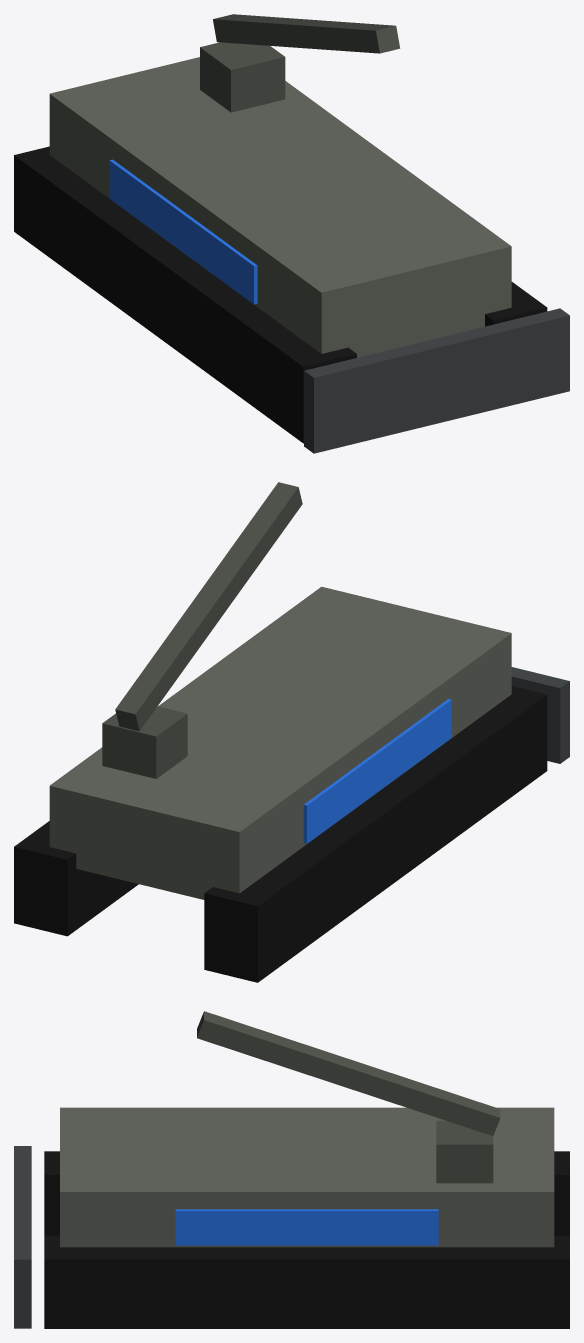
The model's file is eu_engineer.glb.
3 renders of one model, top to bottom at view 1: azimuth 30°, elevation 25°; view 2: azimuth 150°, elevation 25°; view 3: azimuth 270°, elevation 25°, orthographic. The views are drawn at different scales.
Visible parts, largest first — view 1: hull, track_l, dozer_blade, team_panel_l, crane_boom, crane_base, track_r; view 2: hull, track_l, crane_boom, track_r, team_panel_l, crane_base, dozer_blade; view 3: hull, track_r, team_panel_r, crane_boom, crane_base, dozer_blade, track_l.
Part boxes in pixels (bbox=[...]): hull: bbox=[49, 57, 511, 357]; track_l: bbox=[14, 146, 356, 443]; dozer_blade: bbox=[304, 308, 569, 453]; team_panel_l: bbox=[109, 159, 257, 304]; crane_boom: bbox=[213, 14, 400, 53]; crane_base: bbox=[200, 42, 285, 112]; track_r: bbox=[485, 282, 547, 326]; hull: bbox=[49, 586, 511, 899]; track_l: bbox=[204, 686, 547, 982]; crane_boom: bbox=[115, 482, 302, 731]; track_r: bbox=[14, 821, 138, 936]; team_panel_l: bbox=[303, 699, 451, 843]; crane_base: bbox=[102, 706, 187, 778]; dozer_blade: bbox=[511, 667, 569, 763]; hull: bbox=[60, 1107, 554, 1247]; track_r: bbox=[44, 1235, 569, 1328]; team_panel_r: bbox=[175, 1209, 438, 1245]; crane_boom: bbox=[197, 1011, 500, 1135]; crane_base: bbox=[436, 1120, 493, 1183]; dozer_blade: bbox=[14, 1146, 31, 1328]; track_l: bbox=[44, 1151, 569, 1235].
Bounding box in the file's own units: 3.78 × 4.36 × 7.83.
